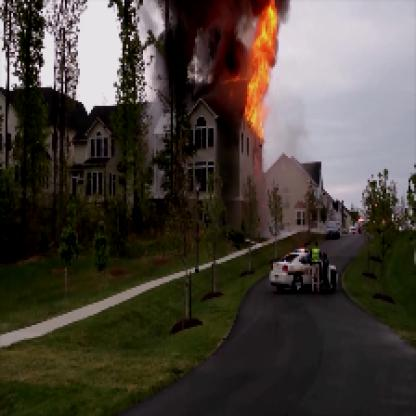Fire: (219, 2, 282, 137)
Smoke: (156, 2, 249, 98)
